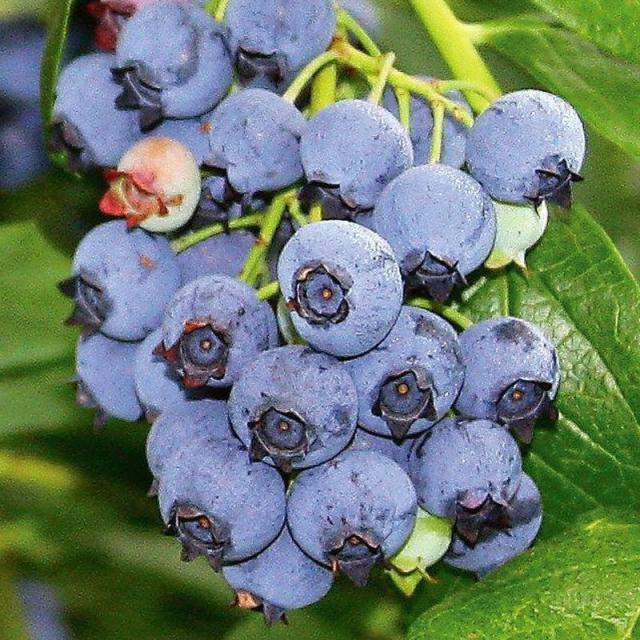BlueBerry - v1: (280, 446, 429, 594), (148, 430, 299, 575), (362, 156, 505, 300), (221, 339, 363, 480), (338, 302, 474, 448), (271, 215, 409, 358), (460, 80, 597, 216), (110, 2, 248, 136), (58, 210, 194, 345), (155, 271, 293, 401), (40, 42, 164, 184), (444, 311, 574, 445), (291, 93, 424, 215), (406, 409, 524, 534), (202, 79, 322, 201), (215, 515, 348, 625), (209, 0, 341, 94), (443, 464, 549, 579), (164, 210, 278, 308), (62, 316, 148, 437), (139, 391, 245, 486), (134, 328, 204, 436)
